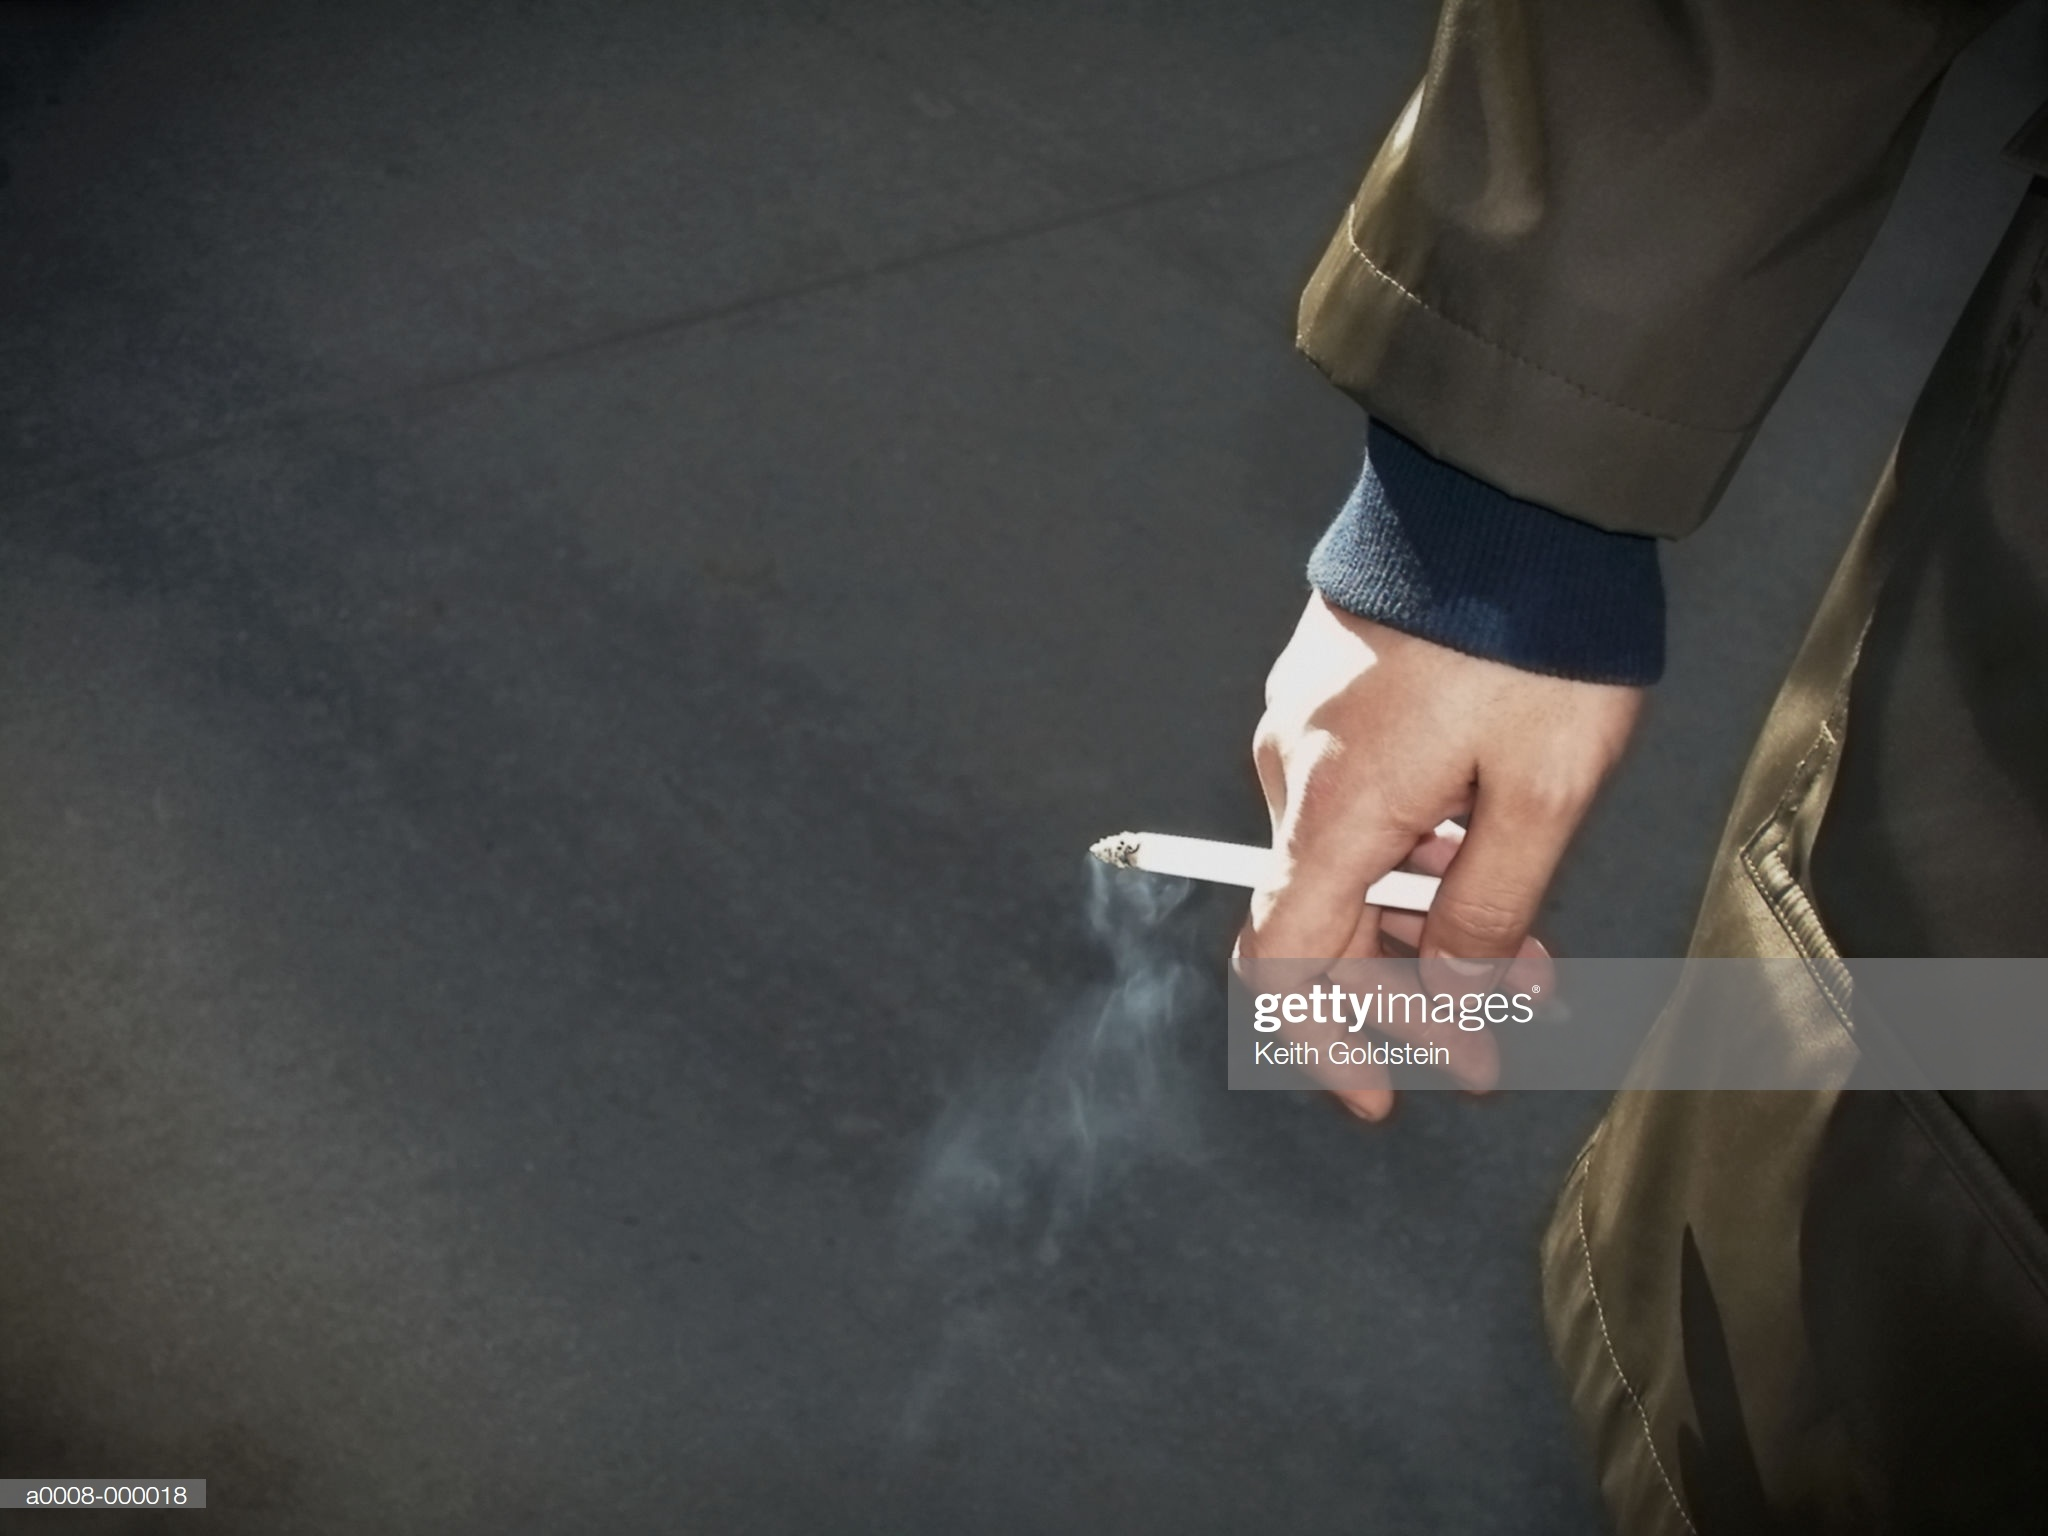sigaretta: (1126, 815, 1455, 936)
